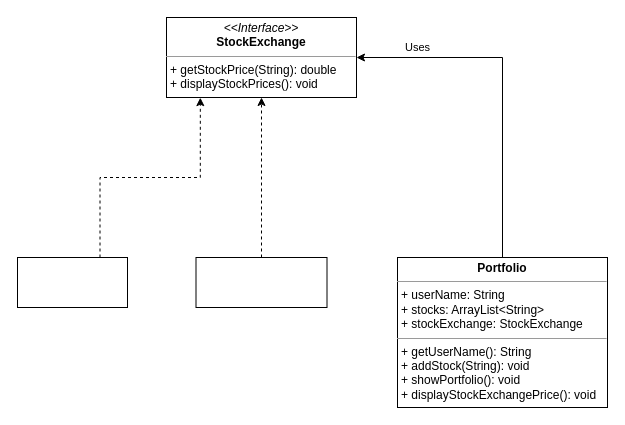
Image size: 625x425. Some labels were removed from this diagram. Each missing label, with the centre of its shape:
"NYStockExchange" belongs at point 72,282.
"ZurichStockExchange" belongs at point 261,282.
